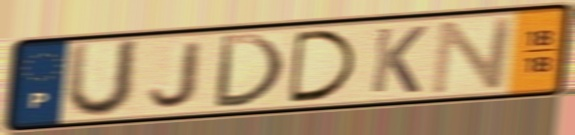D: (209, 32, 288, 111), (287, 27, 361, 106)
J: (146, 39, 207, 110)
K: (367, 24, 430, 96)
N: (427, 14, 519, 97)
U: (62, 37, 145, 121)
